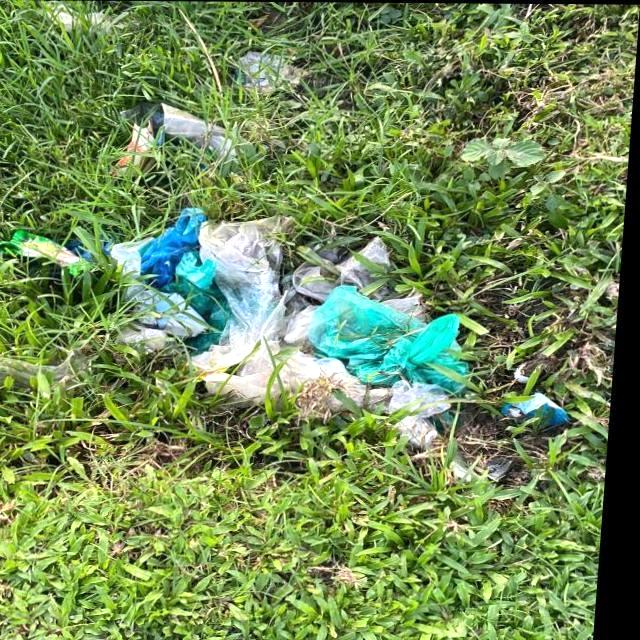polythene: (108, 221, 284, 395), (290, 281, 486, 391)
